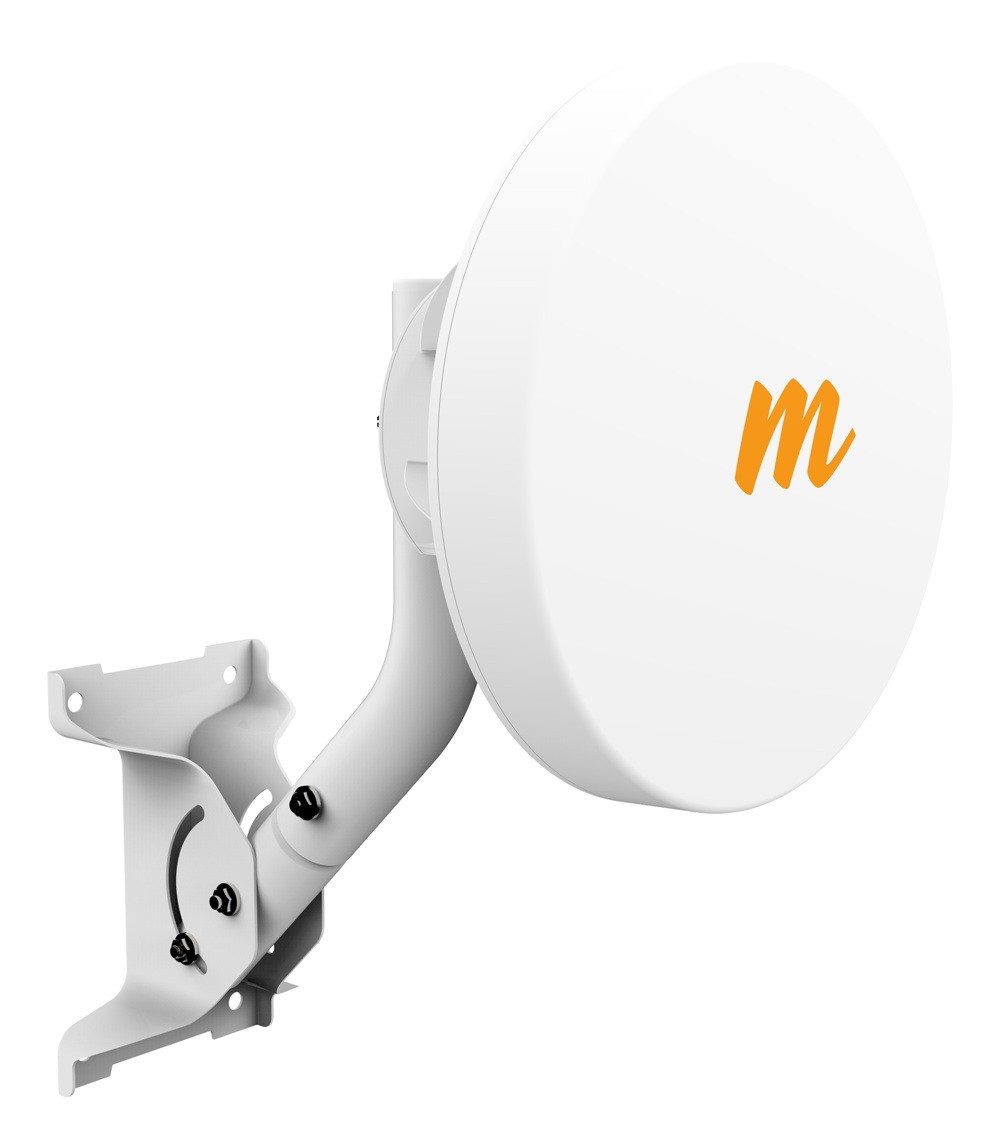ba: (242, 24, 972, 920)
